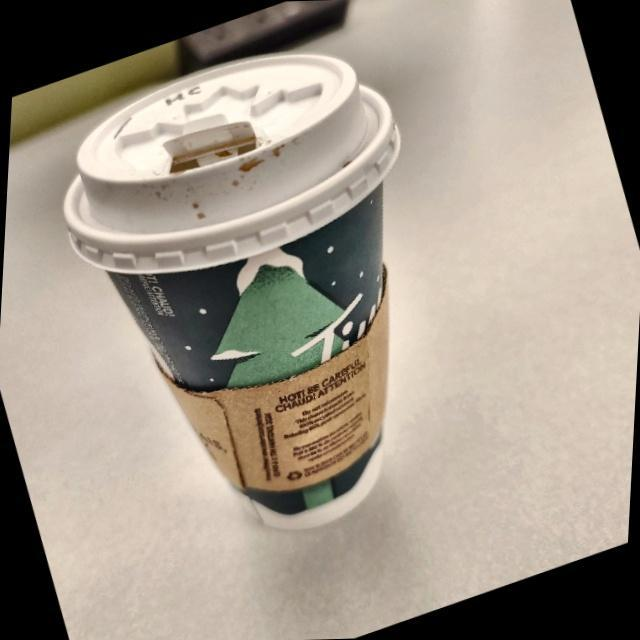timmies: (58, 33, 406, 534)
